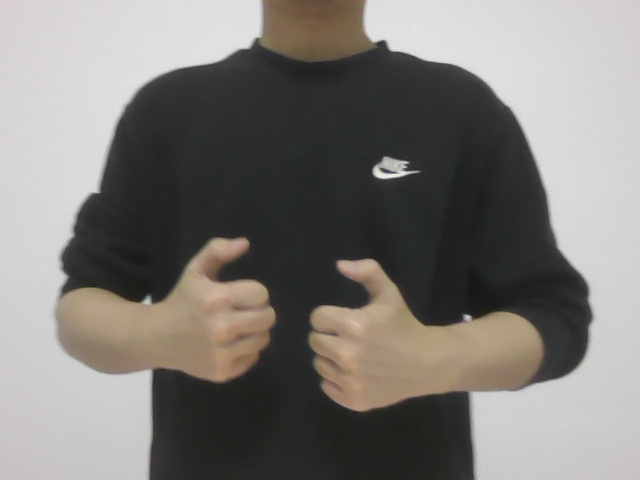marry/wife: (144, 226, 444, 422)
